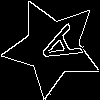A: (27, 22, 83, 73)
